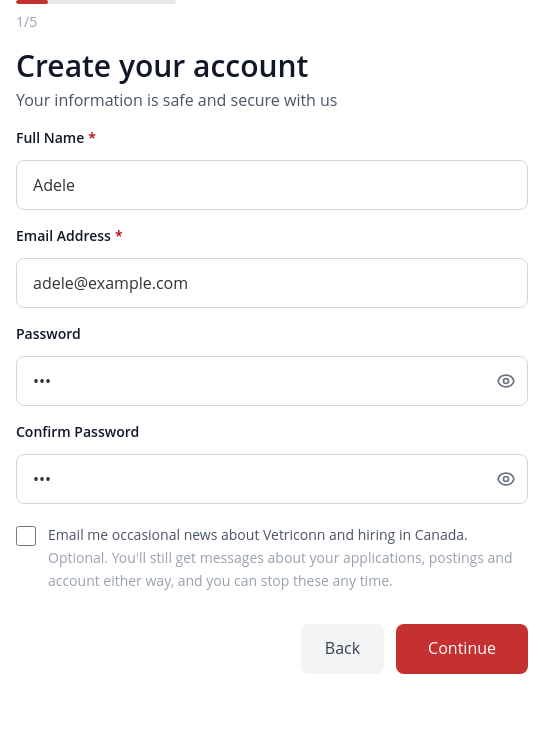
Test: CreateAccountStep - deferred password checklist › reveals the checklist on a Continue with a weak password
Click the button "Continue".
click(462, 649)  # box x1=396 y1=624 x2=528 y2=674
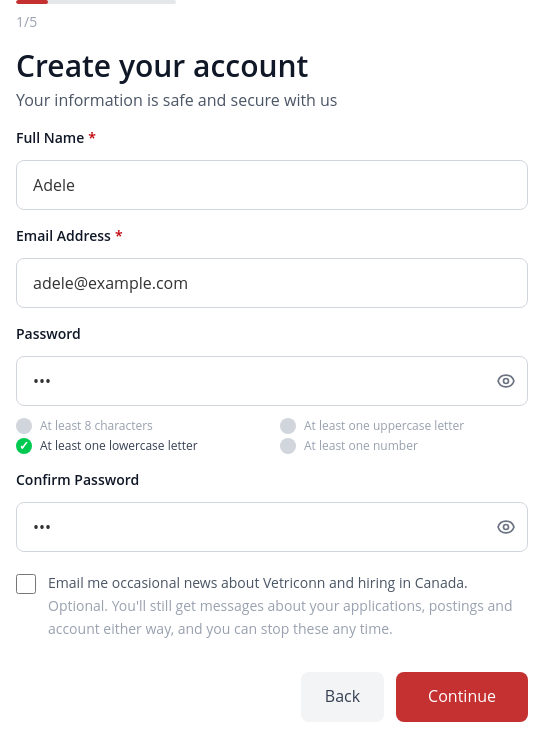
Result: the text "At least 8 characters" is shown at x1=40 y1=418 x2=153 y2=434
